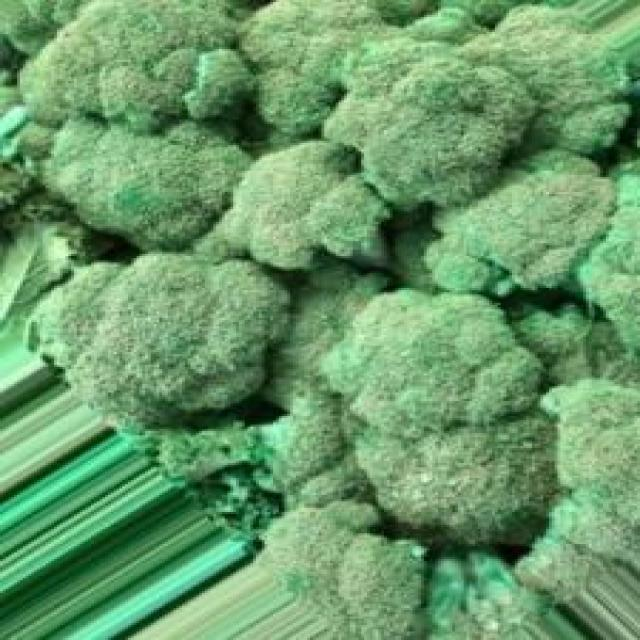Healthy: (61, 255, 288, 428), (325, 48, 533, 214), (337, 289, 541, 455), (197, 142, 431, 278), (21, 1, 251, 138), (240, 1, 402, 157), (467, 10, 630, 165), (257, 509, 431, 640), (362, 417, 559, 532), (49, 120, 254, 229)
